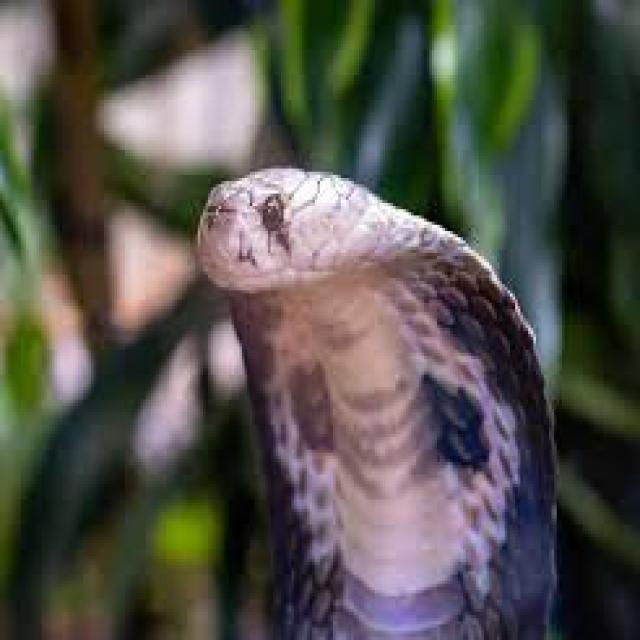Snake: (188, 162, 563, 640)
